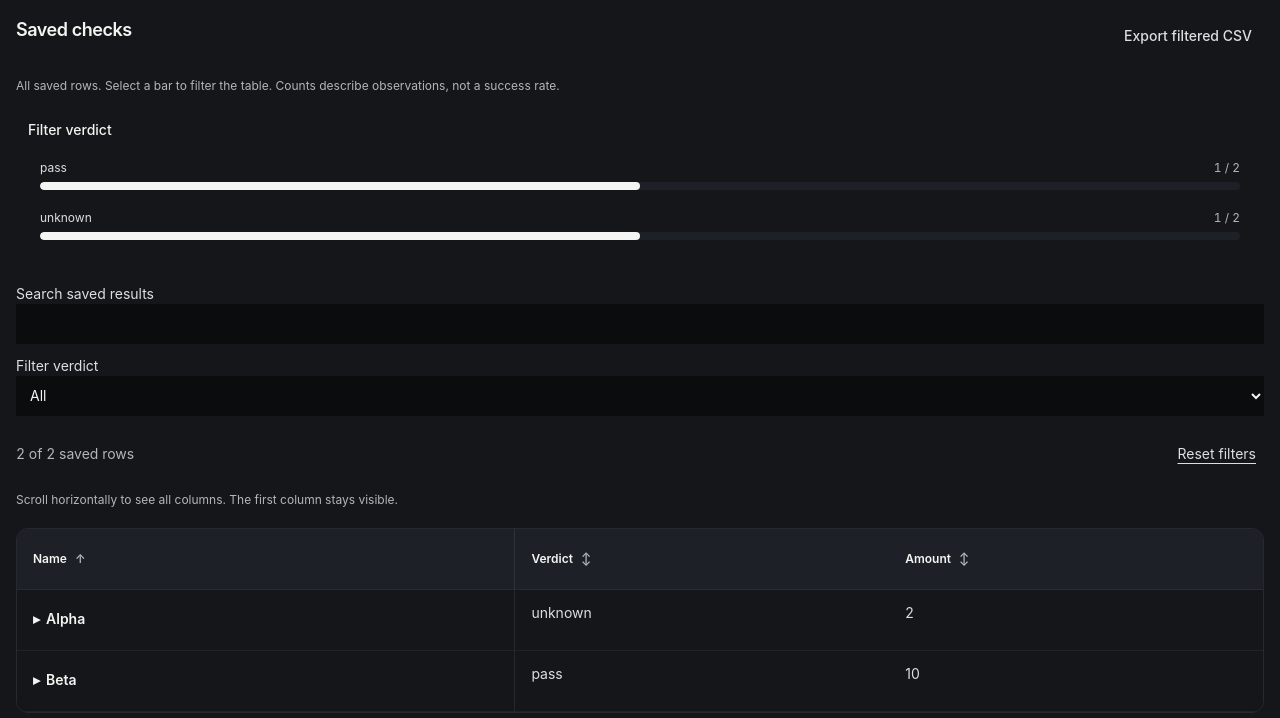
Test: expands evidence in a full row, preserves the record context and supports keyboard dismissal
The width and height of the screenshot is (1280, 718).
Later steps or results of the test are not shown.
Expected: the text "a saved evidence" is not shown
Click the button "▸Alpha". click: click(66, 619)
box: [33,602,498,638]
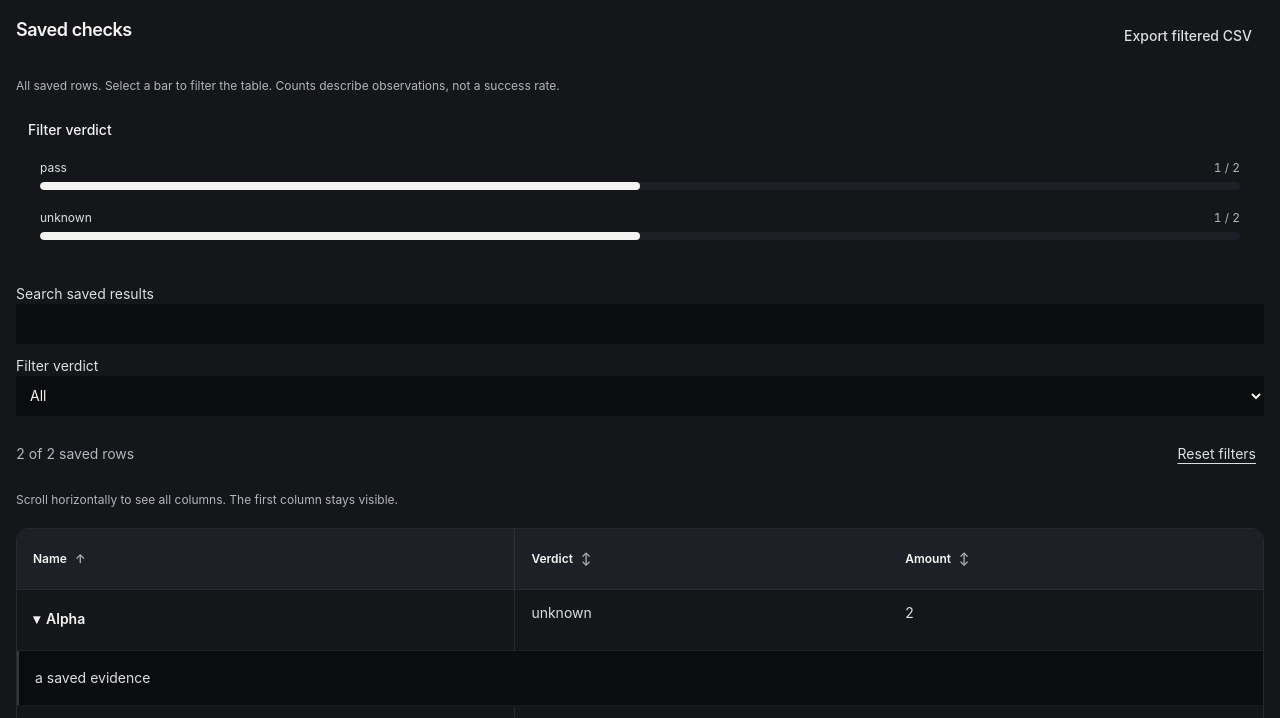
Expected: the text "a saved evidence" is shown, [35,668,150,686]
